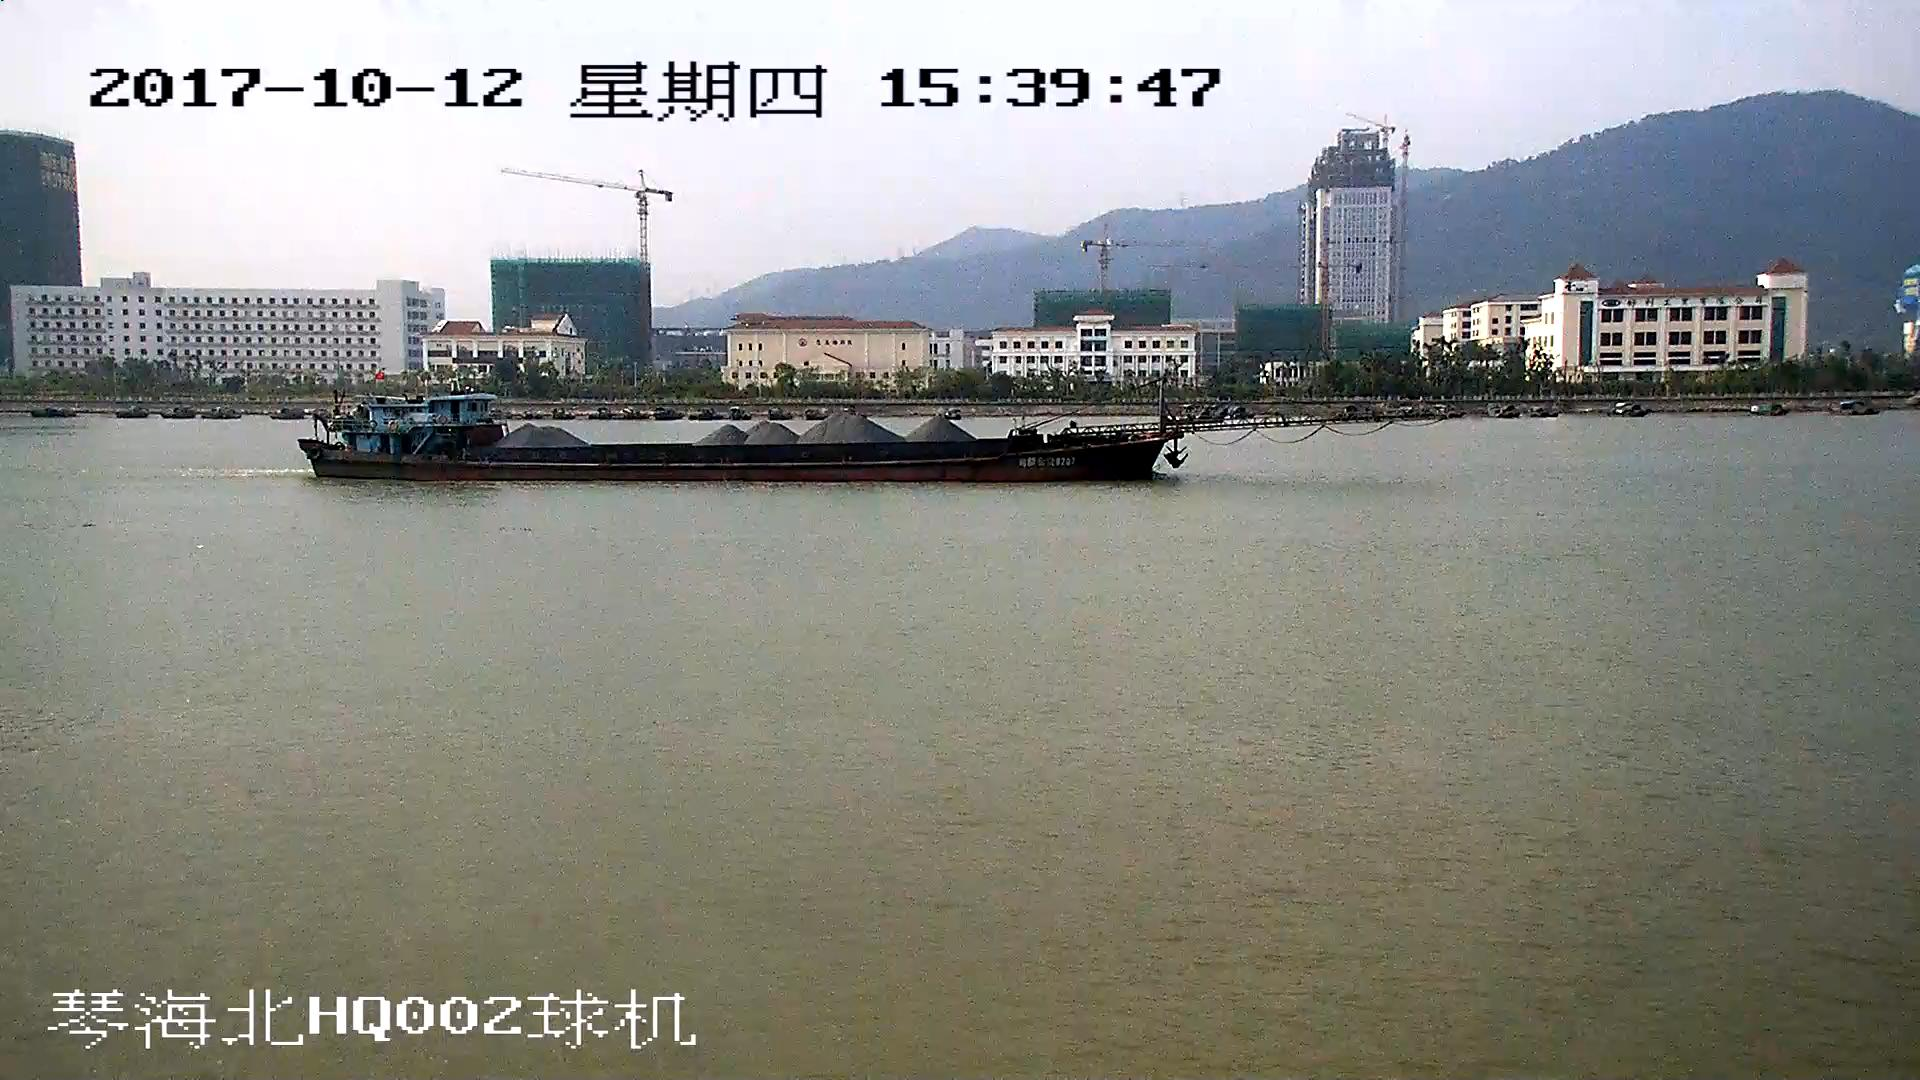ore carrier: (305, 376, 1391, 485)
